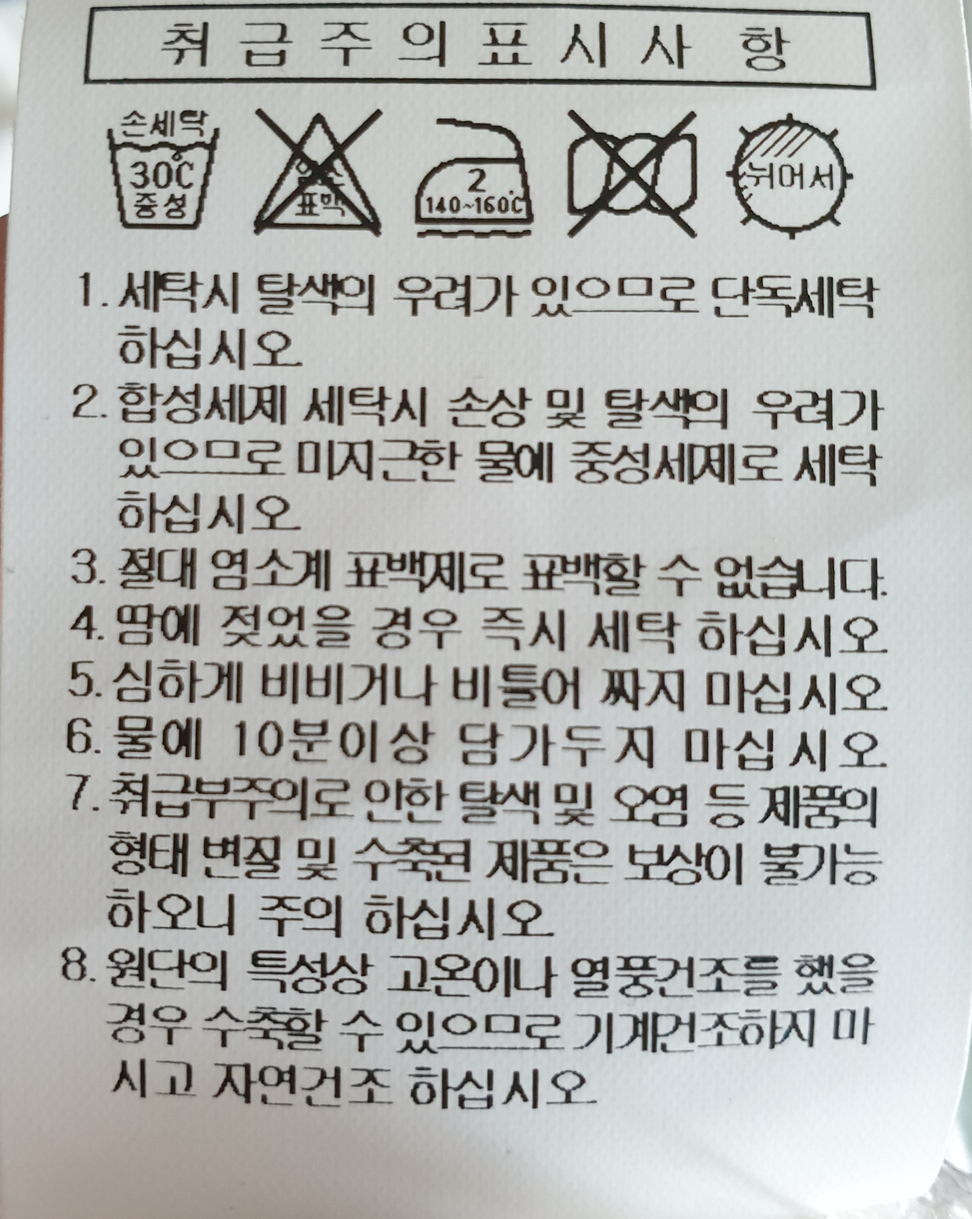KR_flat_dry_in_shade: (720, 100, 854, 241)
KR_hand_wash_30_neutral: (101, 102, 221, 239)
KR_iron_medium_temp_with_cloth: (400, 110, 537, 249)
KR_no_chlorine_bleach: (243, 98, 386, 241)
KR_no_wring: (558, 99, 710, 249)
